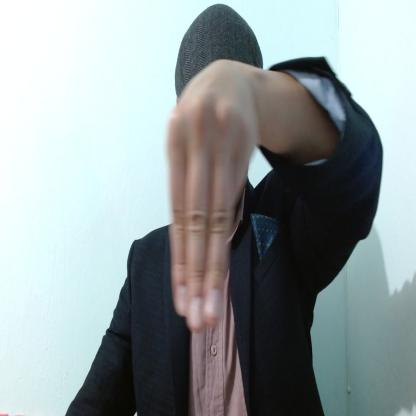M: (168, 61, 258, 325)
